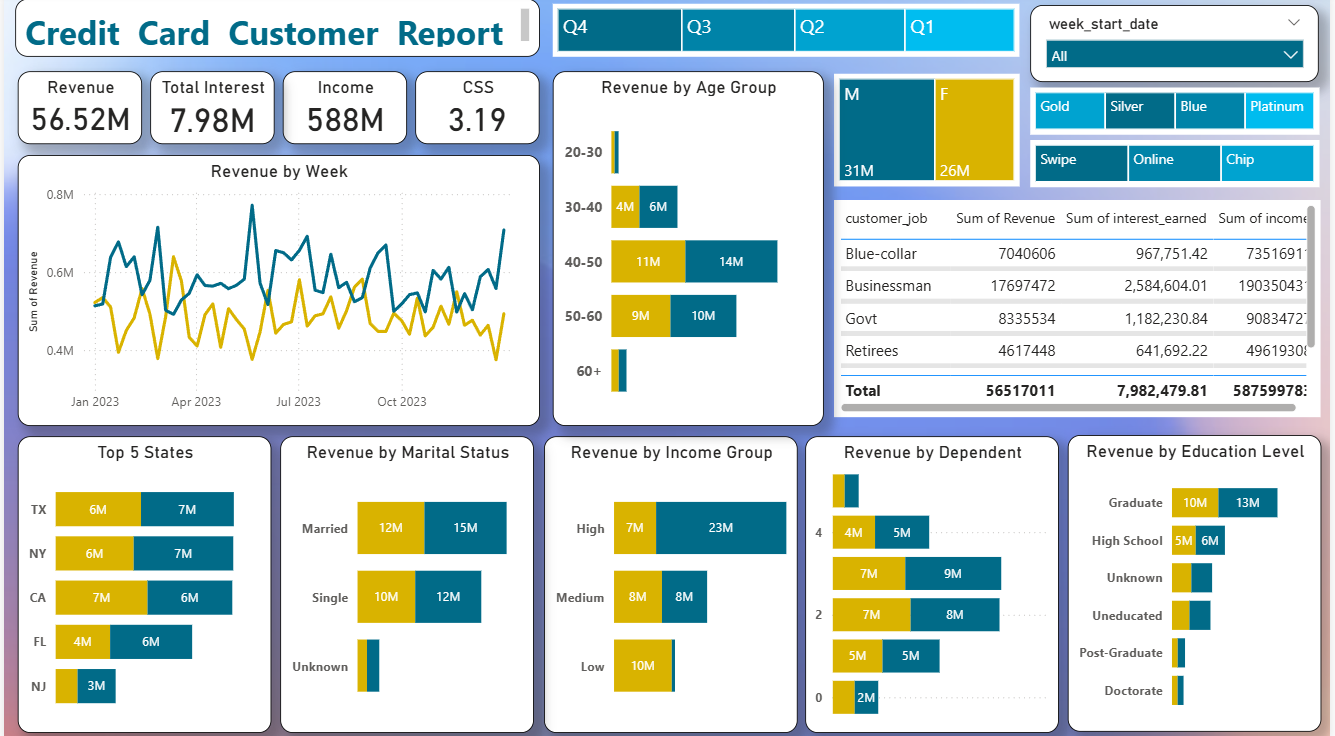

Layout of this report page (visuals, bound fields, positions):
{"tool":"powerbi","page":{"name":"CC Customer","canvas":[1280,720],"ordinal":1},"visuals":[{"type":"barChart","title":"Revenue by Income Group","fields":{"Y":["Sum(public cc_detail.Revenue)"],"Category":["public cust_detail.IncomeGroup"],"Series":["public cust_detail.gender"]},"box":[521.2,425.8,245.2,286.3],"z":0},{"type":"tableEx","fields":{"Values":["public cust_detail.customer_job","Sum(public cc_detail.Revenue)","Sum(public cc_detail.interest_earned)","Sum(public cust_detail.income)"]},"box":[801.7,198.2,469.8,210],"z":1000},{"type":"card","title":"Revenue","fields":{"Values":["Sum(public cc_detail.Revenue)"]},"box":[13.2,73.9,120.4,70],"z":2000},{"type":"card","title":"Income","fields":{"Values":["Sum(public cust_detail.income)"]},"box":[268.9,73.8,120.4,70.5],"z":3000},{"type":"card","title":"Total Interest","fields":{"Values":["Sum(public cc_detail.interest_earned)"]},"box":[141.2,73.8,120.4,70.5],"z":4000},{"type":"card","title":"CSS","fields":{"Values":["Avg(public cust_detail.cust_satisfaction_score)"]},"box":[396.4,73.9,120.4,70.5],"z":5000},{"type":"slicer","fields":{"Values":["public cc_detail.week_start_date"]},"box":[990.7,9.6,278.6,74.1],"z":6000},{"type":"treemap","fields":{"Group":["public cc_detail.qtr"],"Values":["Avg(public cc_detail.client_num)"]},"box":[530,8.8,450.7,51.4],"z":7000},{"type":"treemap","fields":{"Group":["public cc_detail.card_category"],"Values":["Avg(public cc_detail.client_num)"]},"box":[991.1,89.6,279,45.5],"z":8000},{"type":"textbox","box":[11,4.1,506.3,56.3],"z":9000},{"type":"lineChart","title":"Revenue by Week","fields":{"Y":["Sum(public cc_detail.Revenue)"],"Series":["public cust_detail.gender"],"Category":["public cc_detail.week_start_date.Variation.Date Hierarchy.Year","public cc_detail.week_start_date.Variation.Date Hierarchy.Month","public cc_detail.week_start_date.Variation.Date Hierarchy.Day"]},"box":[13.2,154.2,503.6,261.3],"z":10000},{"type":"treemap","fields":{"Group":["public cust_detail.gender"],"Values":["Sum(public cc_detail.Revenue)"]},"box":[801.7,76.3,179.1,108.6],"z":11000},{"type":"barChart","title":"Revenue by Age Group","fields":{"Y":["Sum(public cc_detail.Revenue)"],"Category":["public cust_detail.AgeGroup"],"Series":["public cust_detail.gender"]},"box":[530,73.4,261.3,342.1],"z":12000},{"type":"barChart","title":"Revenue by Dependent","fields":{"Y":["Sum(public cc_detail.Revenue)"],"Category":["public cust_detail.dependent_count"],"Series":["public cust_detail.gender"]},"box":[773.8,425.8,245.2,286.3],"z":13000},{"type":"barChart","title":"Revenue by Education Level ","fields":{"Y":["Sum(public cc_detail.Revenue)"],"Category":["public cust_detail.education_level"],"Series":["public cust_detail.gender"]},"box":[1026.5,425.1,245,286.3],"z":14000},{"type":"barChart","title":"Top 5 States","fields":{"Y":["Sum(public cc_detail.Revenue)"],"Category":["public cust_detail.state_cd"],"Series":["public cust_detail.gender"]},"box":[13.2,425.8,245.2,286.3],"z":15000},{"type":"barChart","title":"Revenue by Marital Status","fields":{"Y":["Sum(public cc_detail.Revenue)"],"Category":["public cust_detail.marital_status"],"Series":["public cust_detail.gender"]},"box":[267.2,425.8,245.2,286.3],"z":16000},{"type":"treemap","fields":{"Group":["public cc_detail.use_chip"],"Values":["Avg(public cc_detail.client_num)"]},"box":[991.1,139.5,279,45.5],"z":17000}]}

Visuals, with their boxes in screenshot pixels (x1, y1, x2, y2), scaled from the page's 1280x720 canvas onto the 1335x736 screenshot:
"Revenue by Income Group" barChart: [left=544, top=435, right=799, bottom=728]
tableEx - public cust_detail.customer_job x Sum(public cc_detail.Revenue): [left=836, top=203, right=1326, bottom=417]
"Revenue" card: [left=14, top=76, right=139, bottom=147]
"Income" card: [left=280, top=75, right=406, bottom=148]
"Total Interest" card: [left=147, top=75, right=273, bottom=148]
"CSS" card: [left=413, top=76, right=539, bottom=148]
slicer - public cc_detail.week_start_date: [left=1033, top=10, right=1324, bottom=86]
treemap - public cc_detail.qtr x Avg(public cc_detail.client_num): [left=553, top=9, right=1023, bottom=62]
treemap - public cc_detail.card_category x Avg(public cc_detail.client_num): [left=1034, top=92, right=1325, bottom=138]
textbox: [left=11, top=4, right=540, bottom=62]
"Revenue by Week" lineChart: [left=14, top=158, right=539, bottom=425]
treemap - public cust_detail.gender x Sum(public cc_detail.Revenue): [left=836, top=78, right=1023, bottom=189]
"Revenue by Age Group" barChart: [left=553, top=75, right=825, bottom=425]
"Revenue by Dependent" barChart: [left=807, top=435, right=1063, bottom=728]
"Revenue by Education Level " barChart: [left=1071, top=435, right=1326, bottom=727]
"Top 5 States" barChart: [left=14, top=435, right=270, bottom=728]
"Revenue by Marital Status" barChart: [left=279, top=435, right=534, bottom=728]
treemap - public cc_detail.use_chip x Avg(public cc_detail.client_num): [left=1034, top=143, right=1325, bottom=189]
